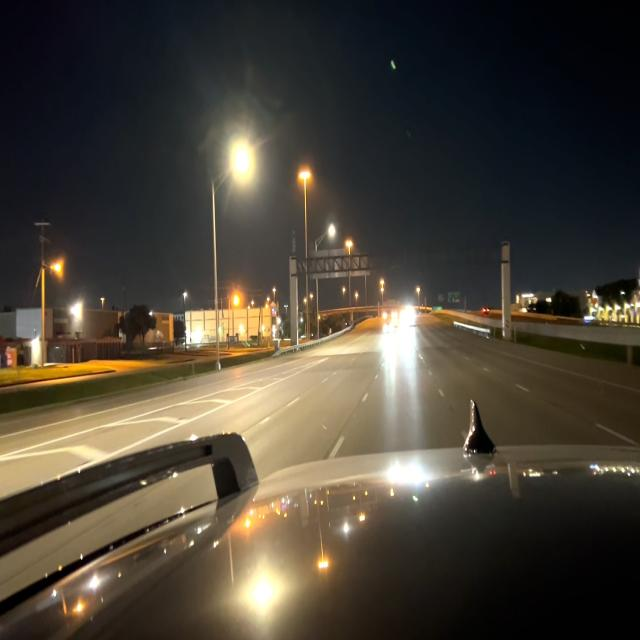back-of-sign: (309, 248, 371, 278)
